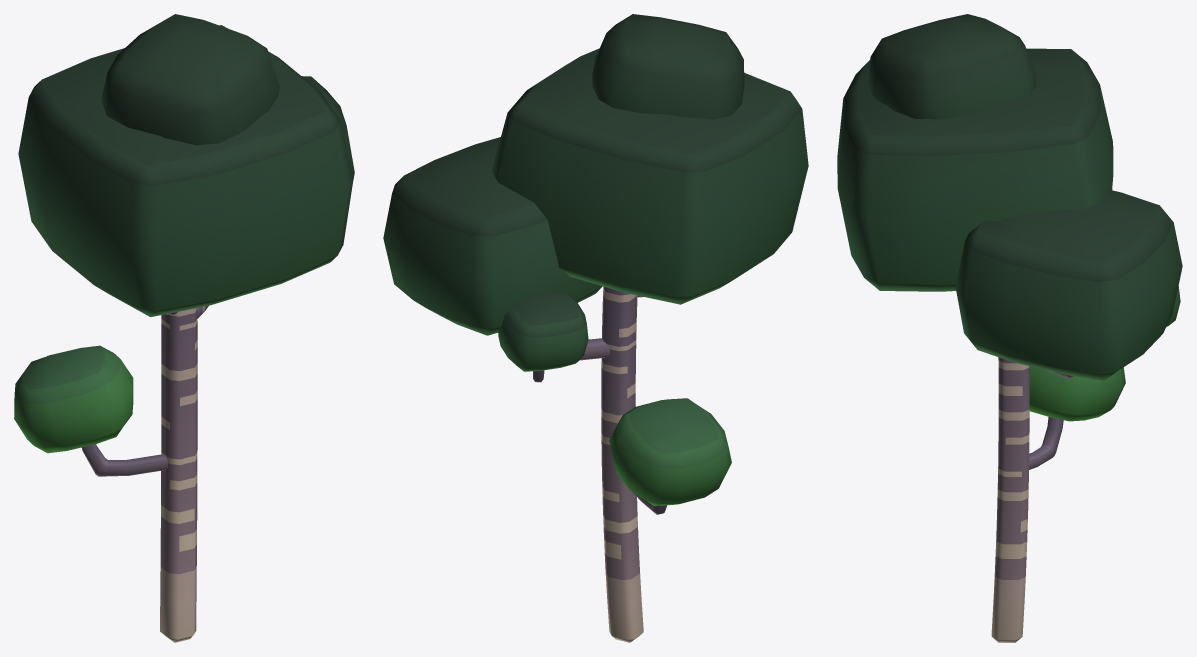
File: tree3.glb
3 views of the same model, side by side, from view 1: azimuth 30°, elevation 25°; view 2: azimuth 150°, elevation 25°; view 3: azimuth 270°, elevation 25° (orthographic). The views are drawn at different scales.
Visible parts, largest first — view 1: Birch Tree - Proto Series - Free; view 2: Birch Tree - Proto Series - Free; view 3: Birch Tree - Proto Series - Free.
Part boxes in pixels (<box>): Birch Tree - Proto Series - Free: <box>14,14,354,642</box>; Birch Tree - Proto Series - Free: <box>383,14,808,642</box>; Birch Tree - Proto Series - Free: <box>837,14,1182,642</box>.
Bounding box in the file's own units: 175 × 312 × 161.
Materials: 1 (1 with a texture image).
